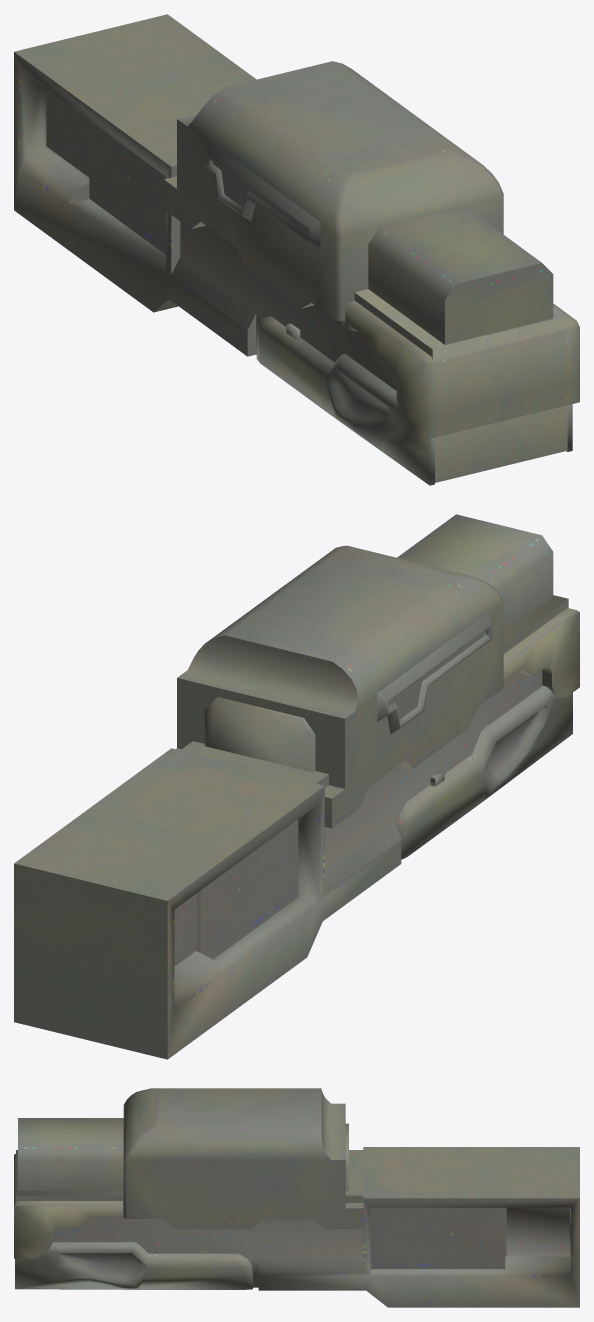
File: body1.obj
3 views of the same model, one above another, from view 1: azimuth 30°, elevation 25°; view 2: azimuth 150°, elevation 25°; view 3: azimuth 270°, elevation 25° (orthographic). The views are drawn at different scales.
Parts seen in each view (by area): view 1: body1; view 2: body1; view 3: body1.
Part boxes in pixels (x1,y1,x2,y2): body1: (14,14,579,485); body1: (14,514,579,1059); body1: (14,1088,579,1307).
Bounding box in the file's own units: 13.41 × 18.7 × 54.71.
